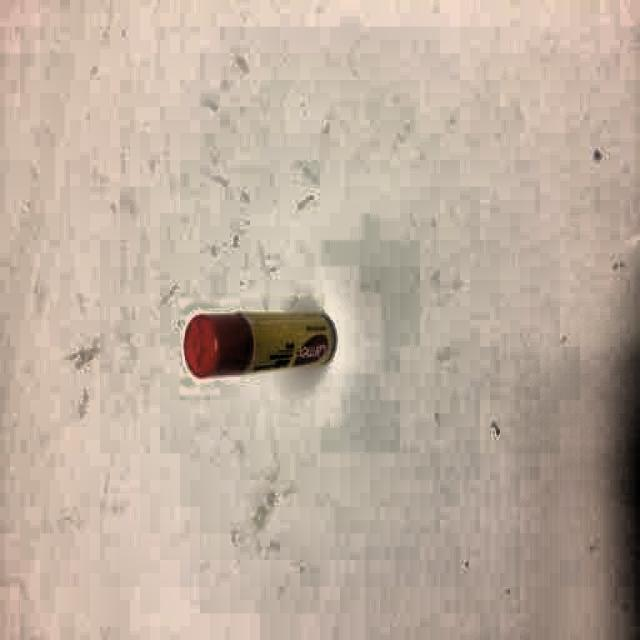trash: (184, 312, 336, 377)
